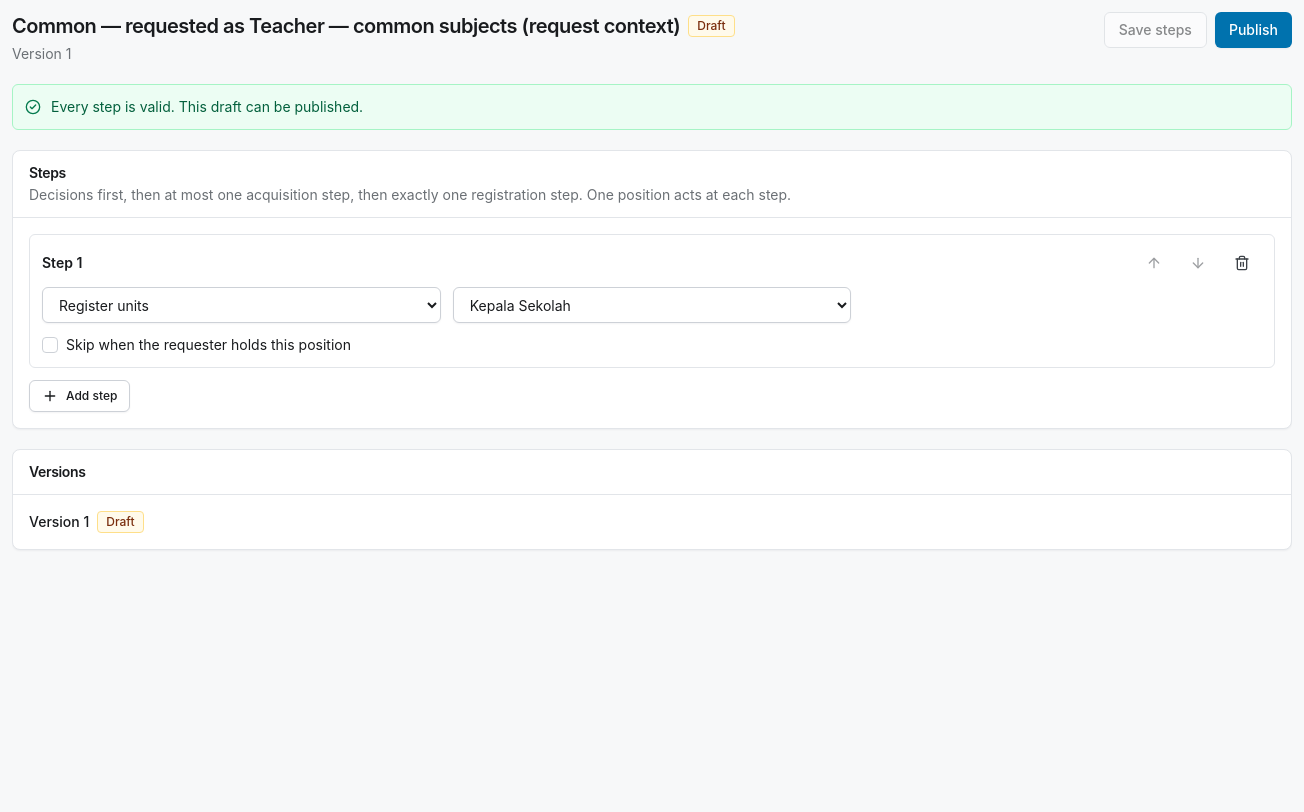
the editor › does not publish unsaved changes
Expected: the list item with test id "step-1" is shown, [29, 234, 1275, 368]
Click the button "Add step": (80, 396) [29, 380, 130, 412]
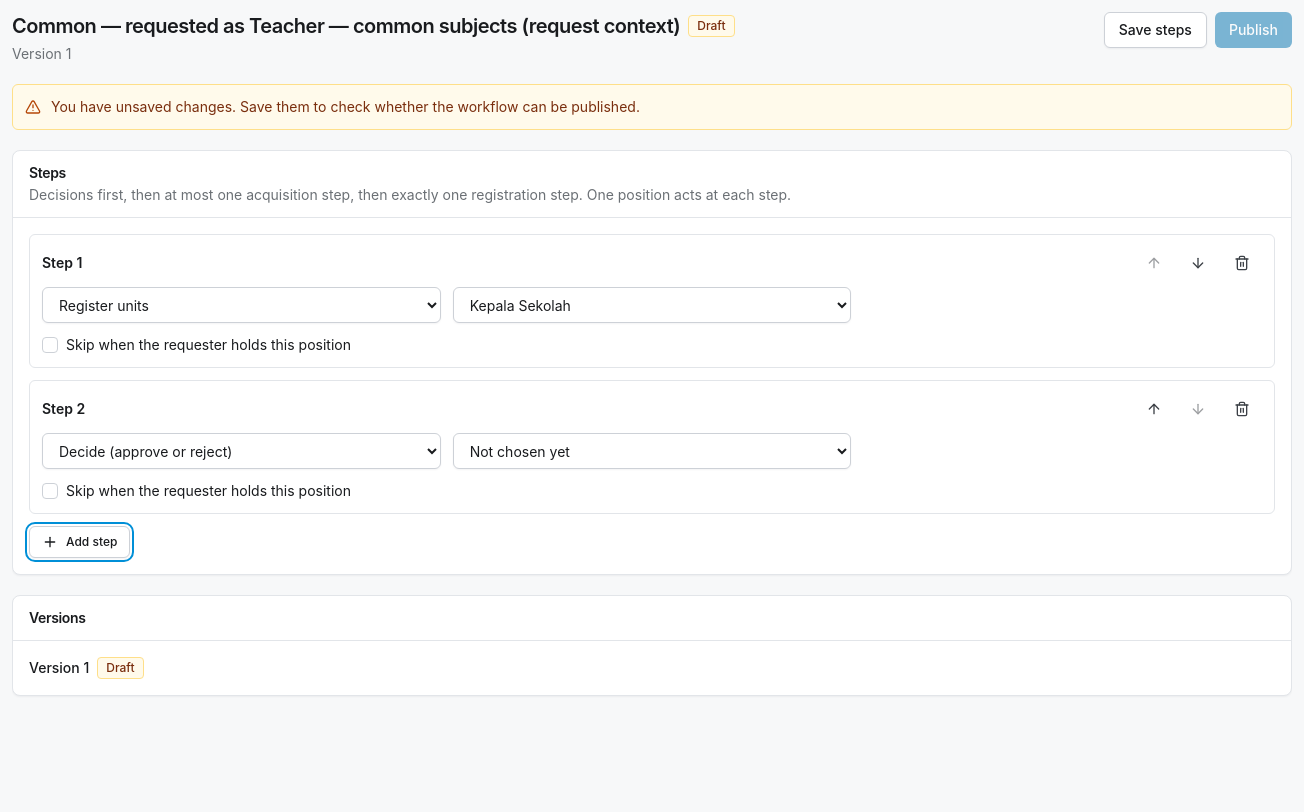
Expected: the button "Publish" is disabled, [1215, 12, 1292, 48]
Expected: the text "unsaved changes" is shown, [51, 98, 640, 115]
